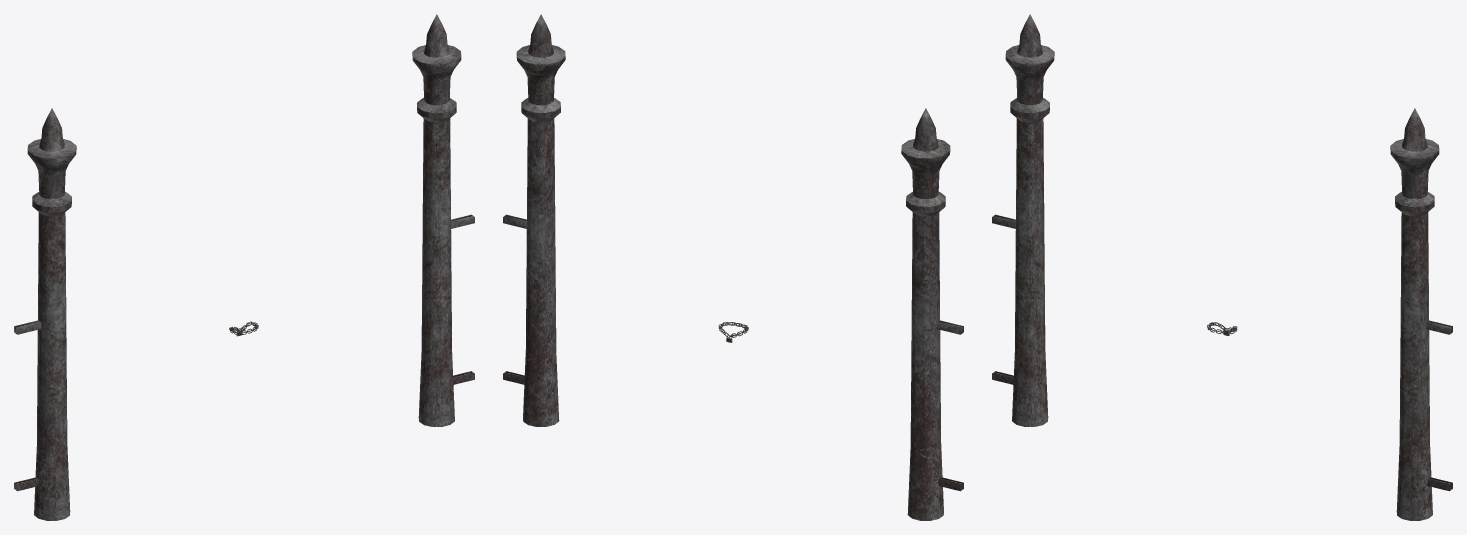
The model's file is Cemitery Gate2.fbx.
3 views of the same model, side by side, from view 1: azimuth 30°, elevation 25°; view 2: azimuth 150°, elevation 25°; view 3: azimuth 330°, elevation 25° (orthographic).
Parts seen in each view (by area): view 1: PortaoCemiterio.005; view 2: PortaoCemiterio.005; view 3: PortaoCemiterio.005.
Part boxes in pixels (box(x1,y1,x2,y2)): PortaoCemiterio.005: box(14, 14, 474, 520); PortaoCemiterio.005: box(503, 14, 963, 520); PortaoCemiterio.005: box(992, 14, 1452, 520).
Size of the model in its own units: 402 by 340 by 37.22.
